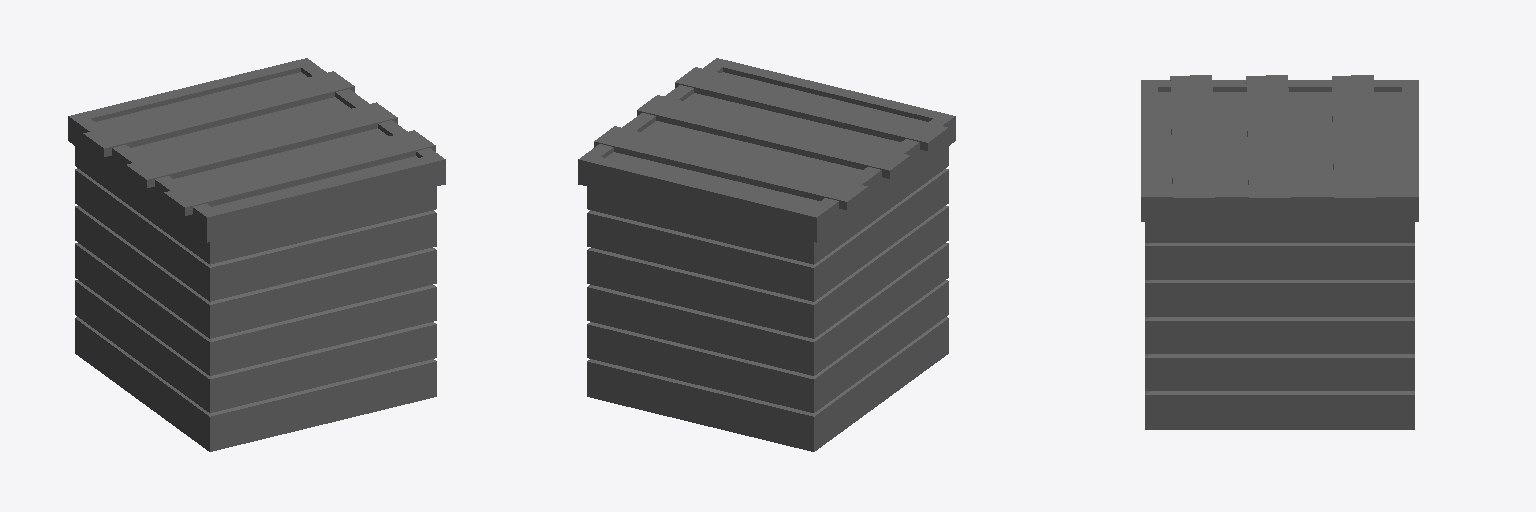
Rendered from Crate_01.obj.
The picture shows the model from 3 angles: view 1: azimuth 30°, elevation 25°; view 2: azimuth 150°, elevation 25°; view 3: azimuth 270°, elevation 25°; orthographic projection.
Parts seen in each view (by area): view 1: Box005; view 2: Box005; view 3: Box005.
Part boxes in pixels (left/top/right/bottom): Box005: left=68, top=58, right=445, bottom=451; Box005: left=578, top=58, right=955, bottom=451; Box005: left=1141, top=75, right=1418, bottom=429.
Bounding box in the file's own units: 0.7667 × 0.6916 × 0.73.